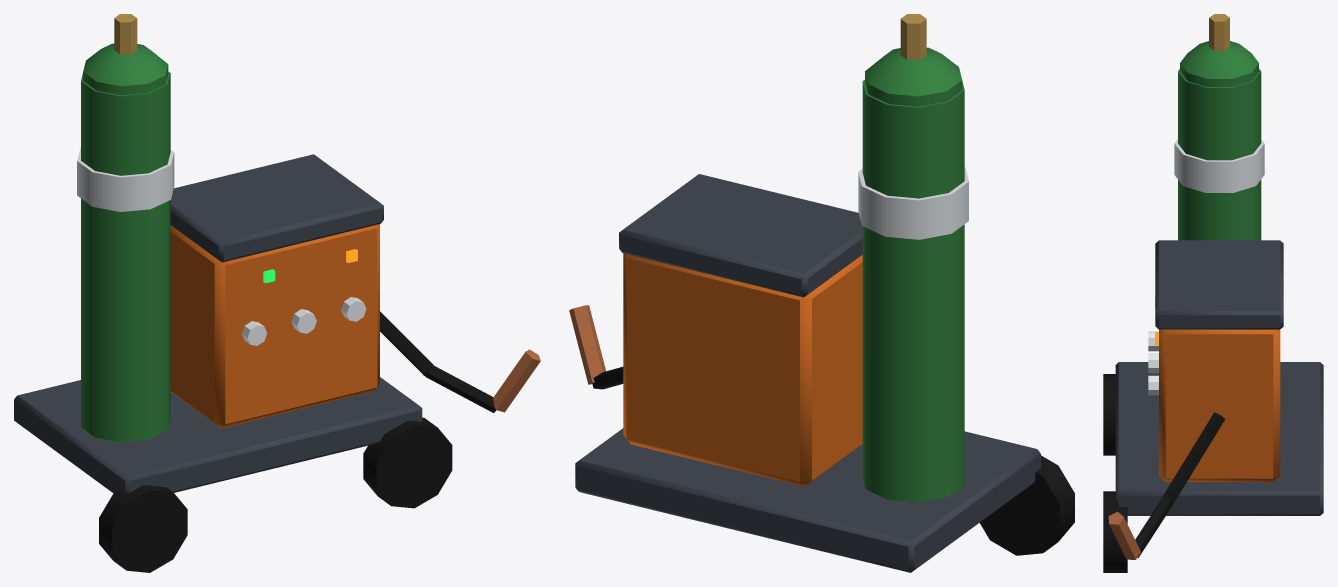
The model's file is engtool_welding_rig.glb.
3 renders of one model, left to right at view 1: azimuth 30°, elevation 25°; view 2: azimuth 150°, elevation 25°; view 3: azimuth 270°, elevation 25°, orthographic. The views are drawn at different scales.
Visible parts, largest first — view 1: engtool_welding_rig; view 2: engtool_welding_rig; view 3: engtool_welding_rig.
Part boxes in pixels (<box>): engtool_welding_rig: <box>14,14,540,572</box>; engtool_welding_rig: <box>569,14,1074,572</box>; engtool_welding_rig: <box>1103,14,1323,572</box>.
Size of the model in its own units: 1.32 by 1.44 by 0.635.
